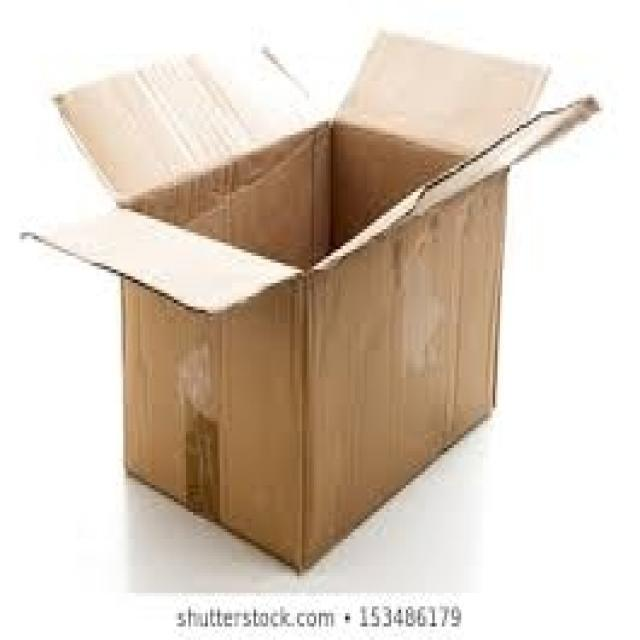cardboard paper: (21, 32, 602, 576)
